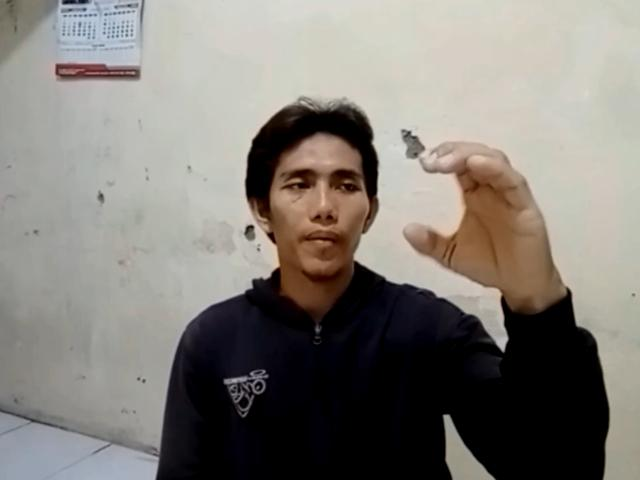C: (400, 140, 558, 298)
